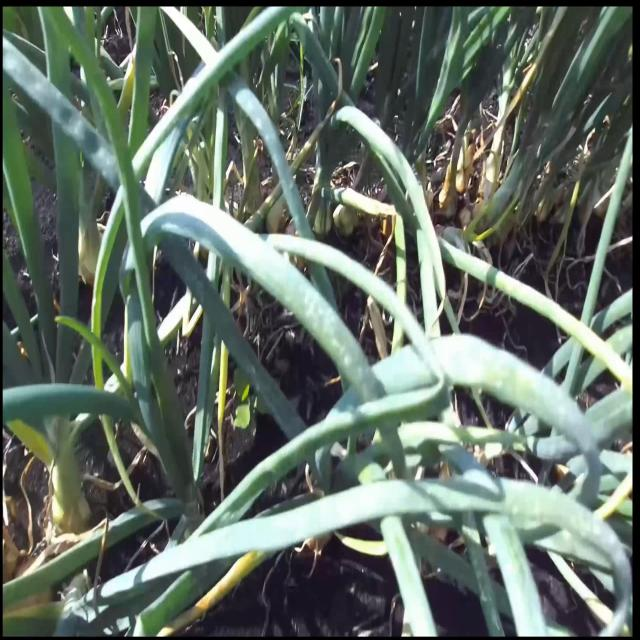onion: (46, 485, 86, 563)
